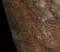plaque psoriasis: (17, 0, 58, 52), (18, 0, 60, 30)
